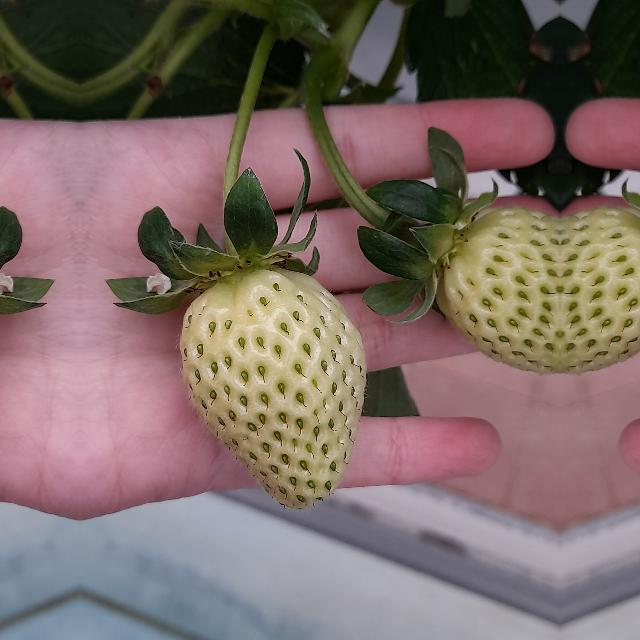Health_25: (179, 265, 365, 509)
